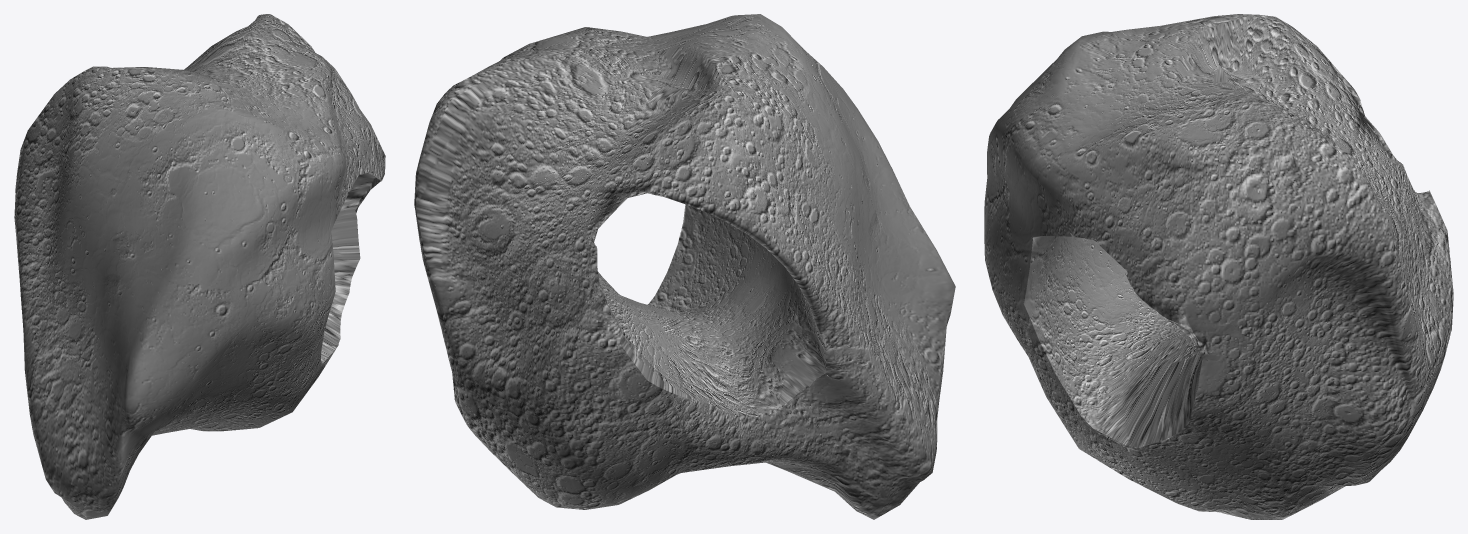
The model's file is AsteroidHole.FBX.
3 renders of one model, left to right at view 1: azimuth 30°, elevation 25°; view 2: azimuth 150°, elevation 25°; view 3: azimuth 270°, elevation 25°, orthographic. The views are drawn at different scales.
Visible parts, largest first — view 1: GeoSphere01; view 2: GeoSphere01; view 3: GeoSphere01.
Boxes of the visible parts, x1=… form: GeoSphere01: x1=14, y1=14, x2=385, y2=519; GeoSphere01: x1=414, y1=14, x2=955, y2=519; GeoSphere01: x1=984, y1=14, x2=1453, y2=519.
Bounding box in the file's own units: 83.51 × 86.2 × 79.37.
Materials: 1 (1 with a texture image).
